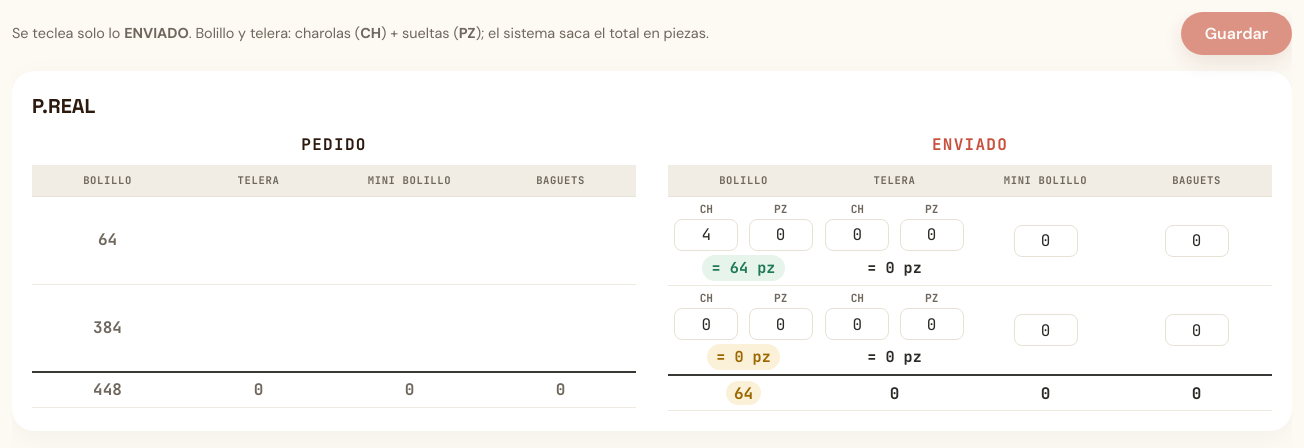
Test: VistaBolillo (08-oct; 09-oct PEDIDO | ENVIADO; 14-oct charolas + sueltas) › mini y baguet: una sola casilla de piezas, sin charolas
Step 1. Replace the text in the number field named "P.REAL tanda 1 MINI" with "30" → (1046, 241), box [1014,225,1078,257]
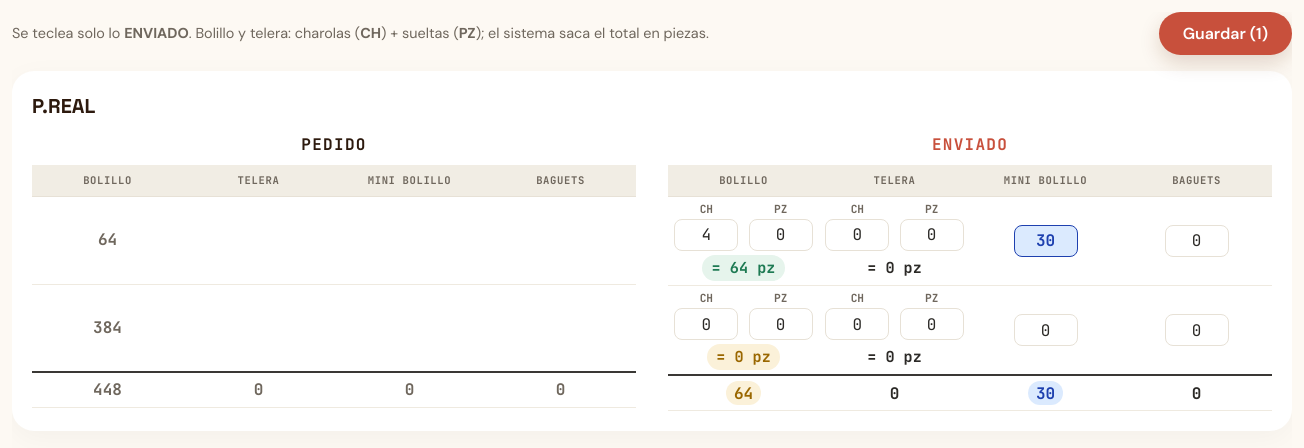
Expected: the cell "30" is shown, [970,375,1121,410]
